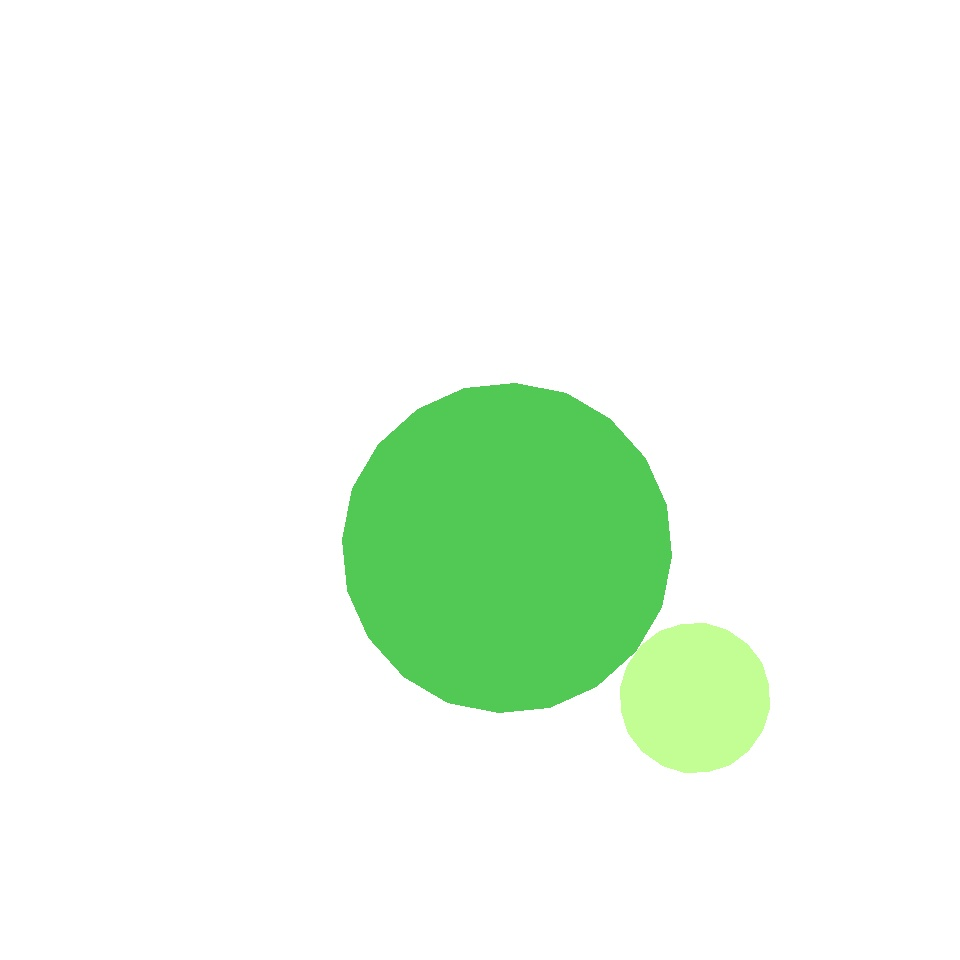square: (249, 522, 522, 794)
triangle: (342, 383, 672, 712), (15, 508, 342, 835), (518, 140, 754, 374), (610, 608, 807, 805), (620, 624, 770, 772)
